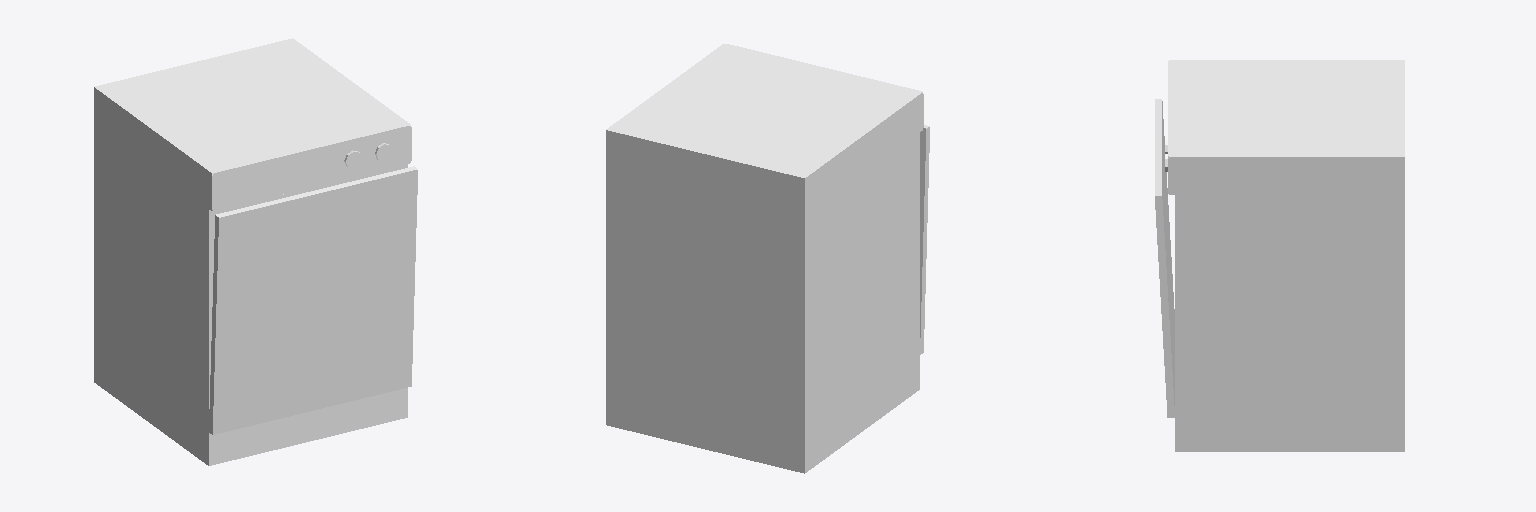
3 renders of one model, left to right at view 1: azimuth 30°, elevation 25°; view 2: azimuth 150°, elevation 25°; view 3: azimuth 270°, elevation 25°, orthographic.
Visible parts, largest first — view 1: Corps_3, Porte_2, PanneauCommande_1; view 2: Corps_3, Porte_2, PanneauCommande_1; view 3: Corps_3, Porte_2, PanneauCommande_1.
Boxes of the visible parts, <box> form: Corps_3: <box>94,38,407,465</box>; Porte_2: <box>209,166,417,434</box>; PanneauCommande_1: <box>209,122,411,210</box>; Corps_3: <box>606,46,919,473</box>; Porte_2: <box>920,125,929,354</box>; PanneauCommande_1: <box>721,44,923,131</box>; Corps_3: <box>1175,60,1404,451</box>; Porte_2: <box>1155,99,1174,417</box>; PanneauCommande_1: <box>1168,60,1175,194</box>.
Size of the model in its own units: 0.6 by 0.85 by 0.6537.